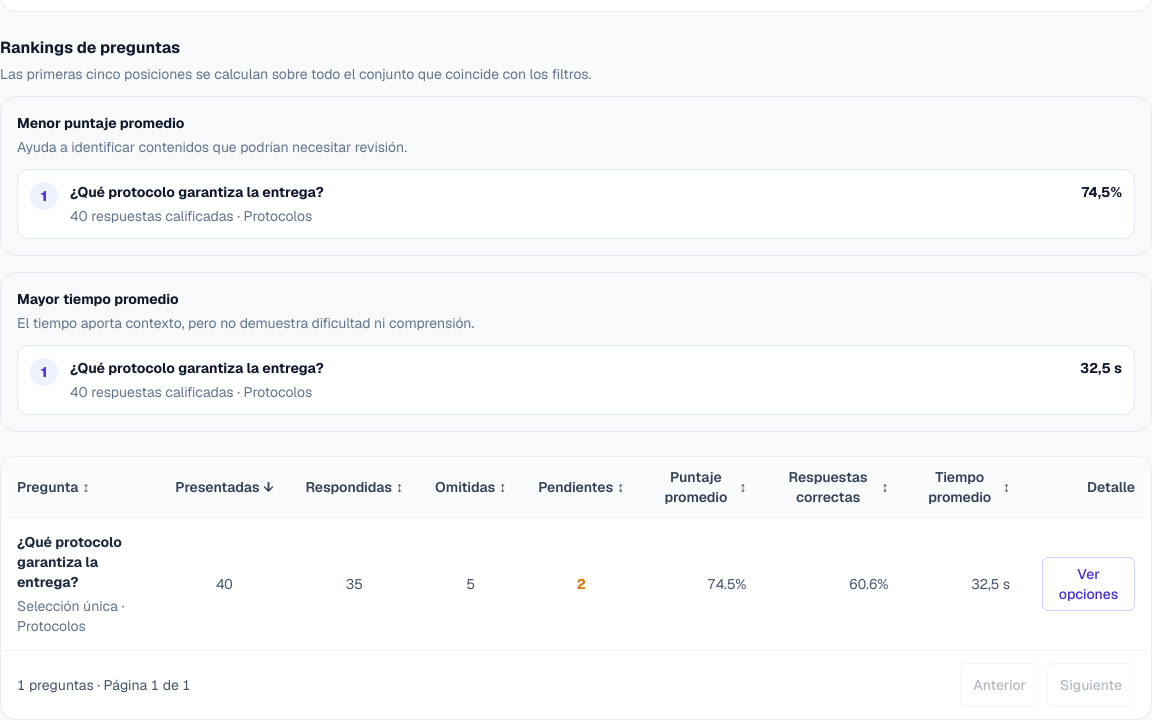
Test case: reportes docentes › no muestra ceros del grupo mientras los resultados agregados están en loading
(page scrolled)
Click the button "Ver opciones". click: (1088, 584)
box: [1042, 556, 1135, 610]
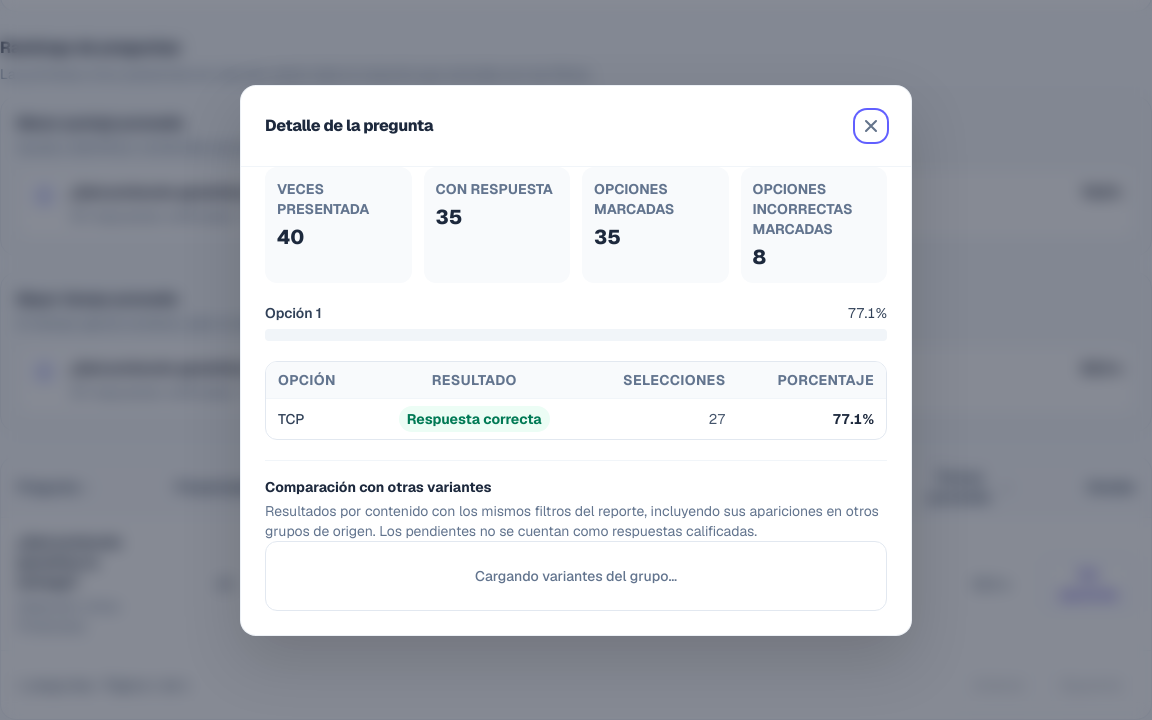
expect the text "Cargando variantes del grupo…" is shown: met, box [265, 540, 887, 610]
